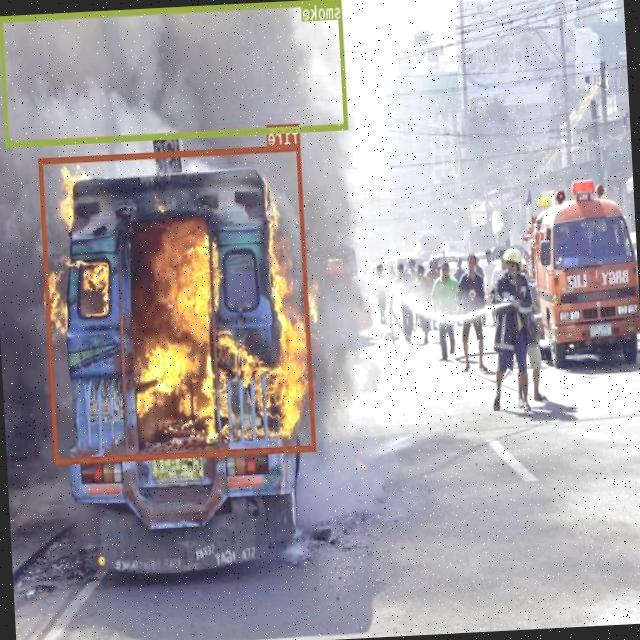fire: (40, 144, 317, 463)
smoke: (0, 0, 349, 147)
